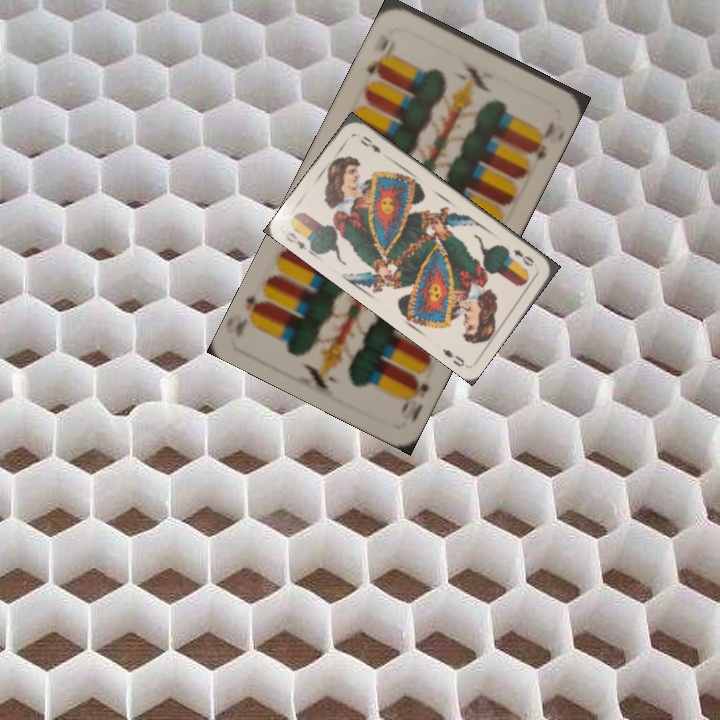E10: (396, 371, 432, 426), (362, 36, 399, 80)
EO: (281, 224, 317, 257), (509, 245, 537, 269)
